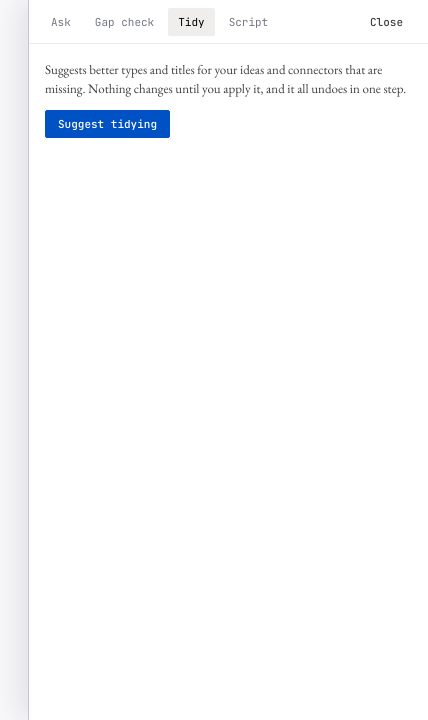
Test case: AI panel › applies the chosen tidy suggestions in one step
Click the button with test id "ai-tidy-run" at (108, 124), box [45, 110, 170, 138]
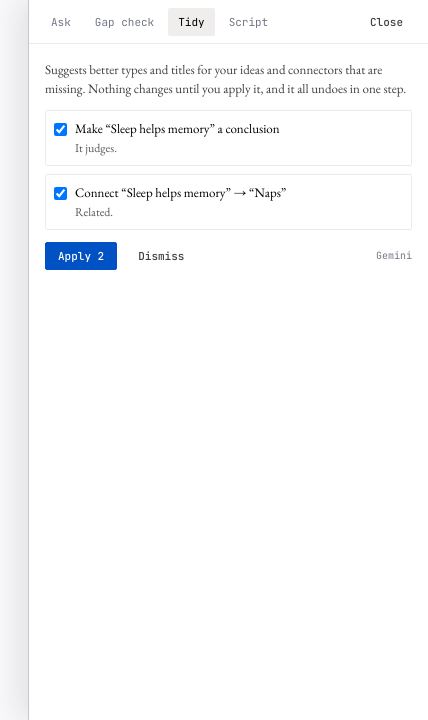
Expected: the text "Make “Sleep helps memory” a conclusion" is shown, [75, 119, 280, 138]
Click the checkbox labelled "Connect “Sleep helps memory” → “Naps” Related." at (60, 194), box [54, 187, 67, 200]
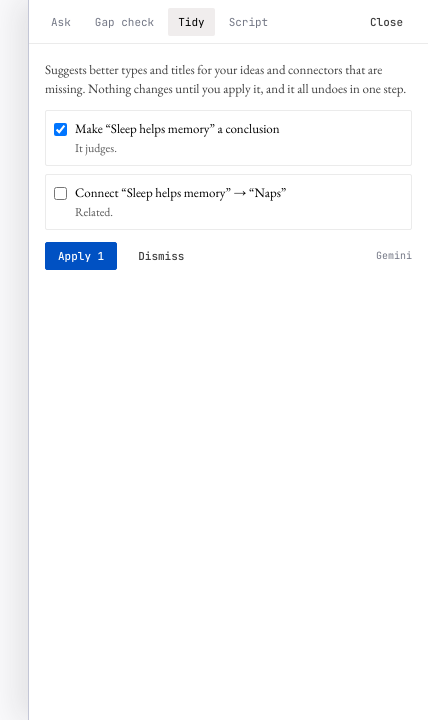
Click the button with test id "ai-tidy-apply" at (81, 256), box [45, 242, 117, 270]
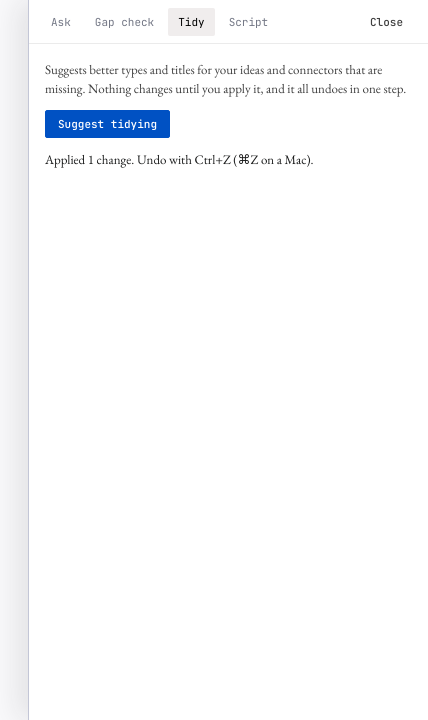
Expected: the message shows "Applied 1 change", [45, 151, 314, 168]
